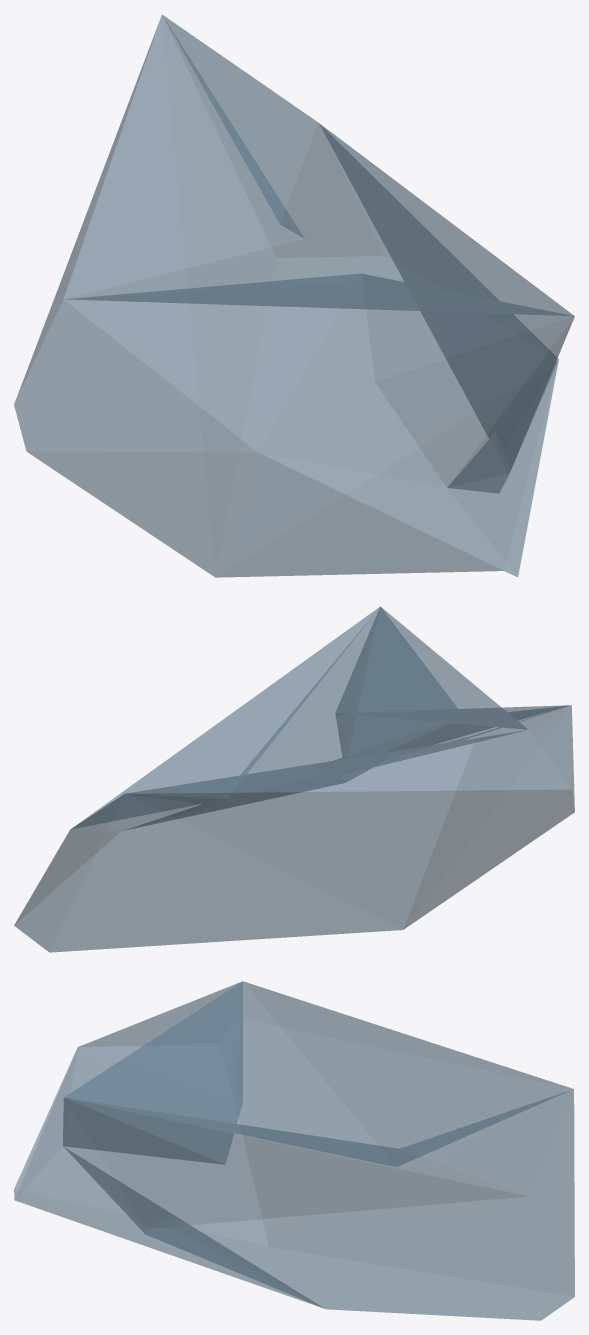
File: particle3.dae
3 views of the same model, one above another, from view 1: azimuth 30°, elevation 25°; view 2: azimuth 150°, elevation 25°; view 3: azimuth 270°, elevation 25° (orthographic). The views are drawn at different scales.
Parts seen in each view (by area): view 1: Platonic.3; view 2: Platonic.3; view 3: Platonic.3.
Boxes of the visible parts, left/top/right/bottom form: Platonic.3: left=14, top=14, right=574, bottom=577; Platonic.3: left=14, top=606, right=574, bottom=952; Platonic.3: left=14, top=981, right=574, bottom=1320.
Bounding box in the file's own units: 1888 × 992 × 2340.
